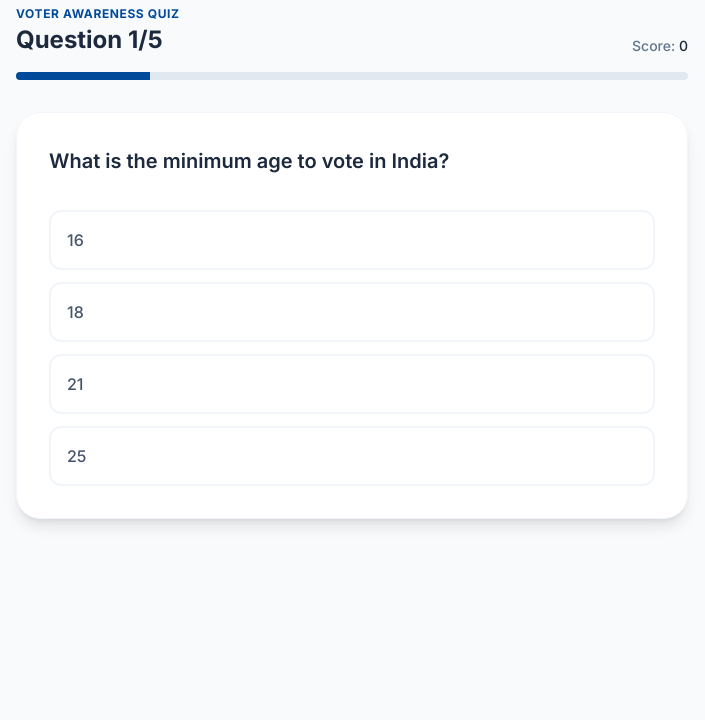
Scenario: Quiz Component › should advance to next question when Next Question is clicked
Click the button "18": coordinates (75, 312) [49,282,655,342]
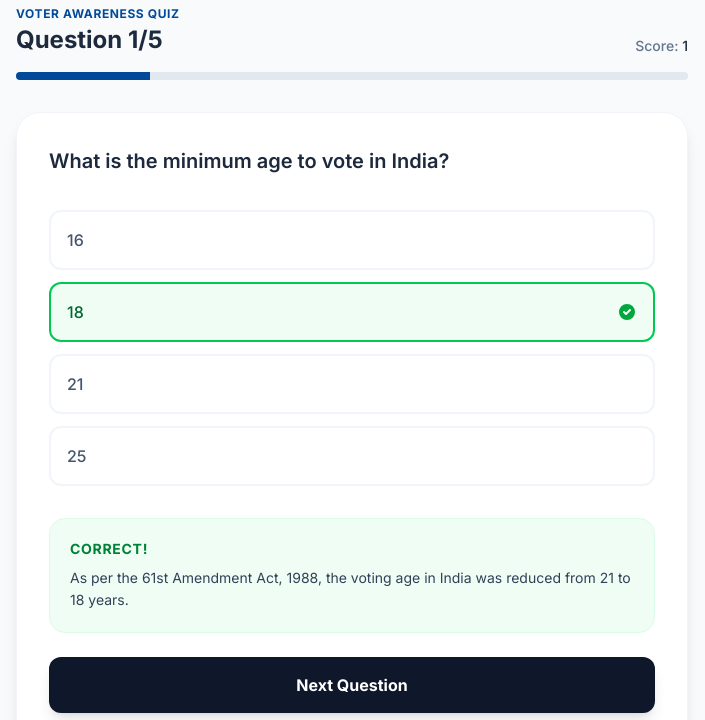
Click the button "Next Question": coordinates (352, 685) [49,657,655,713]
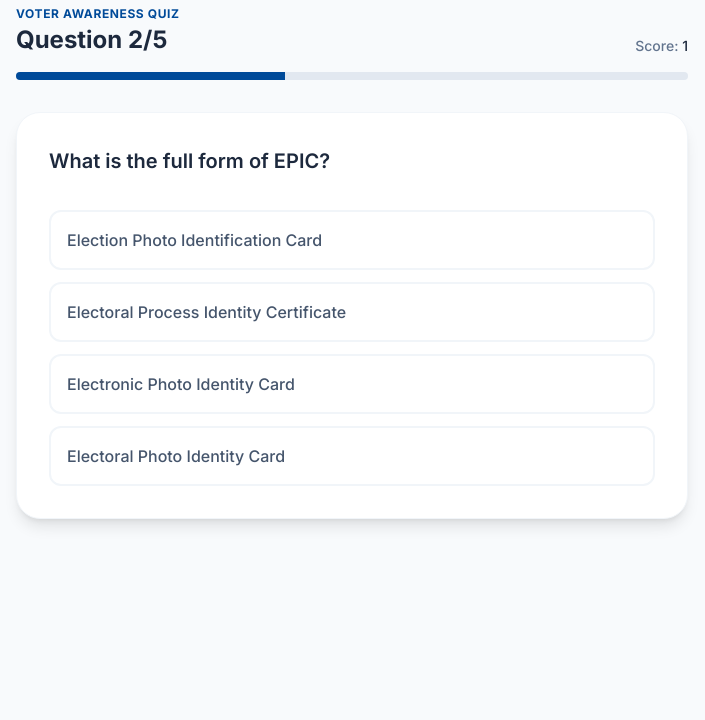
Expected: the heading "Question 2/5" is shown, [16,24,180,56]
Expected: the heading "What is the full form of EPIC?" is shown, [49,149,330,173]
